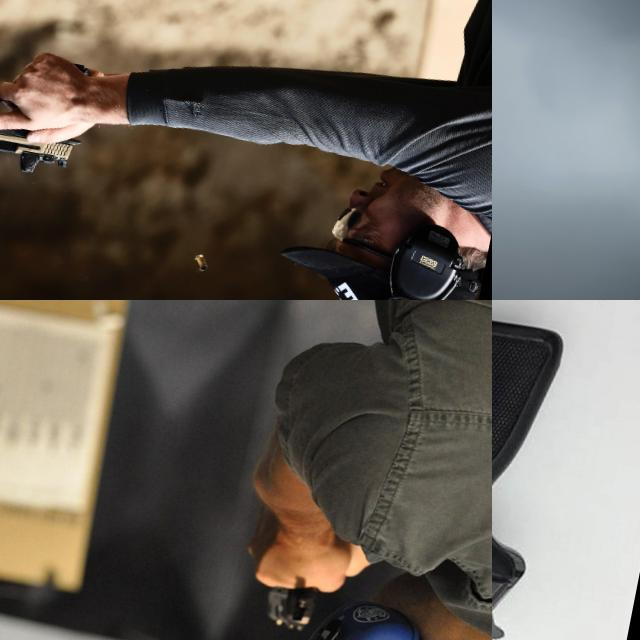handgun: (492, 300, 640, 640), (0, 32, 101, 184), (250, 557, 330, 640), (492, 114, 539, 187)
